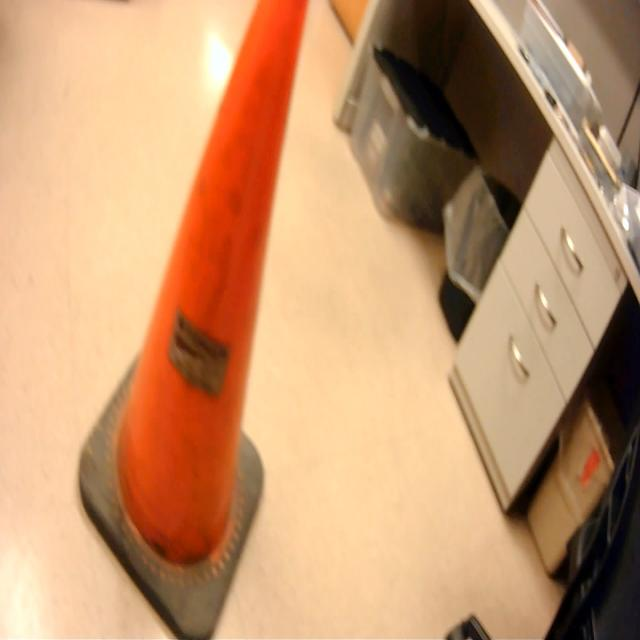traffic cone: (74, 1, 314, 640)
